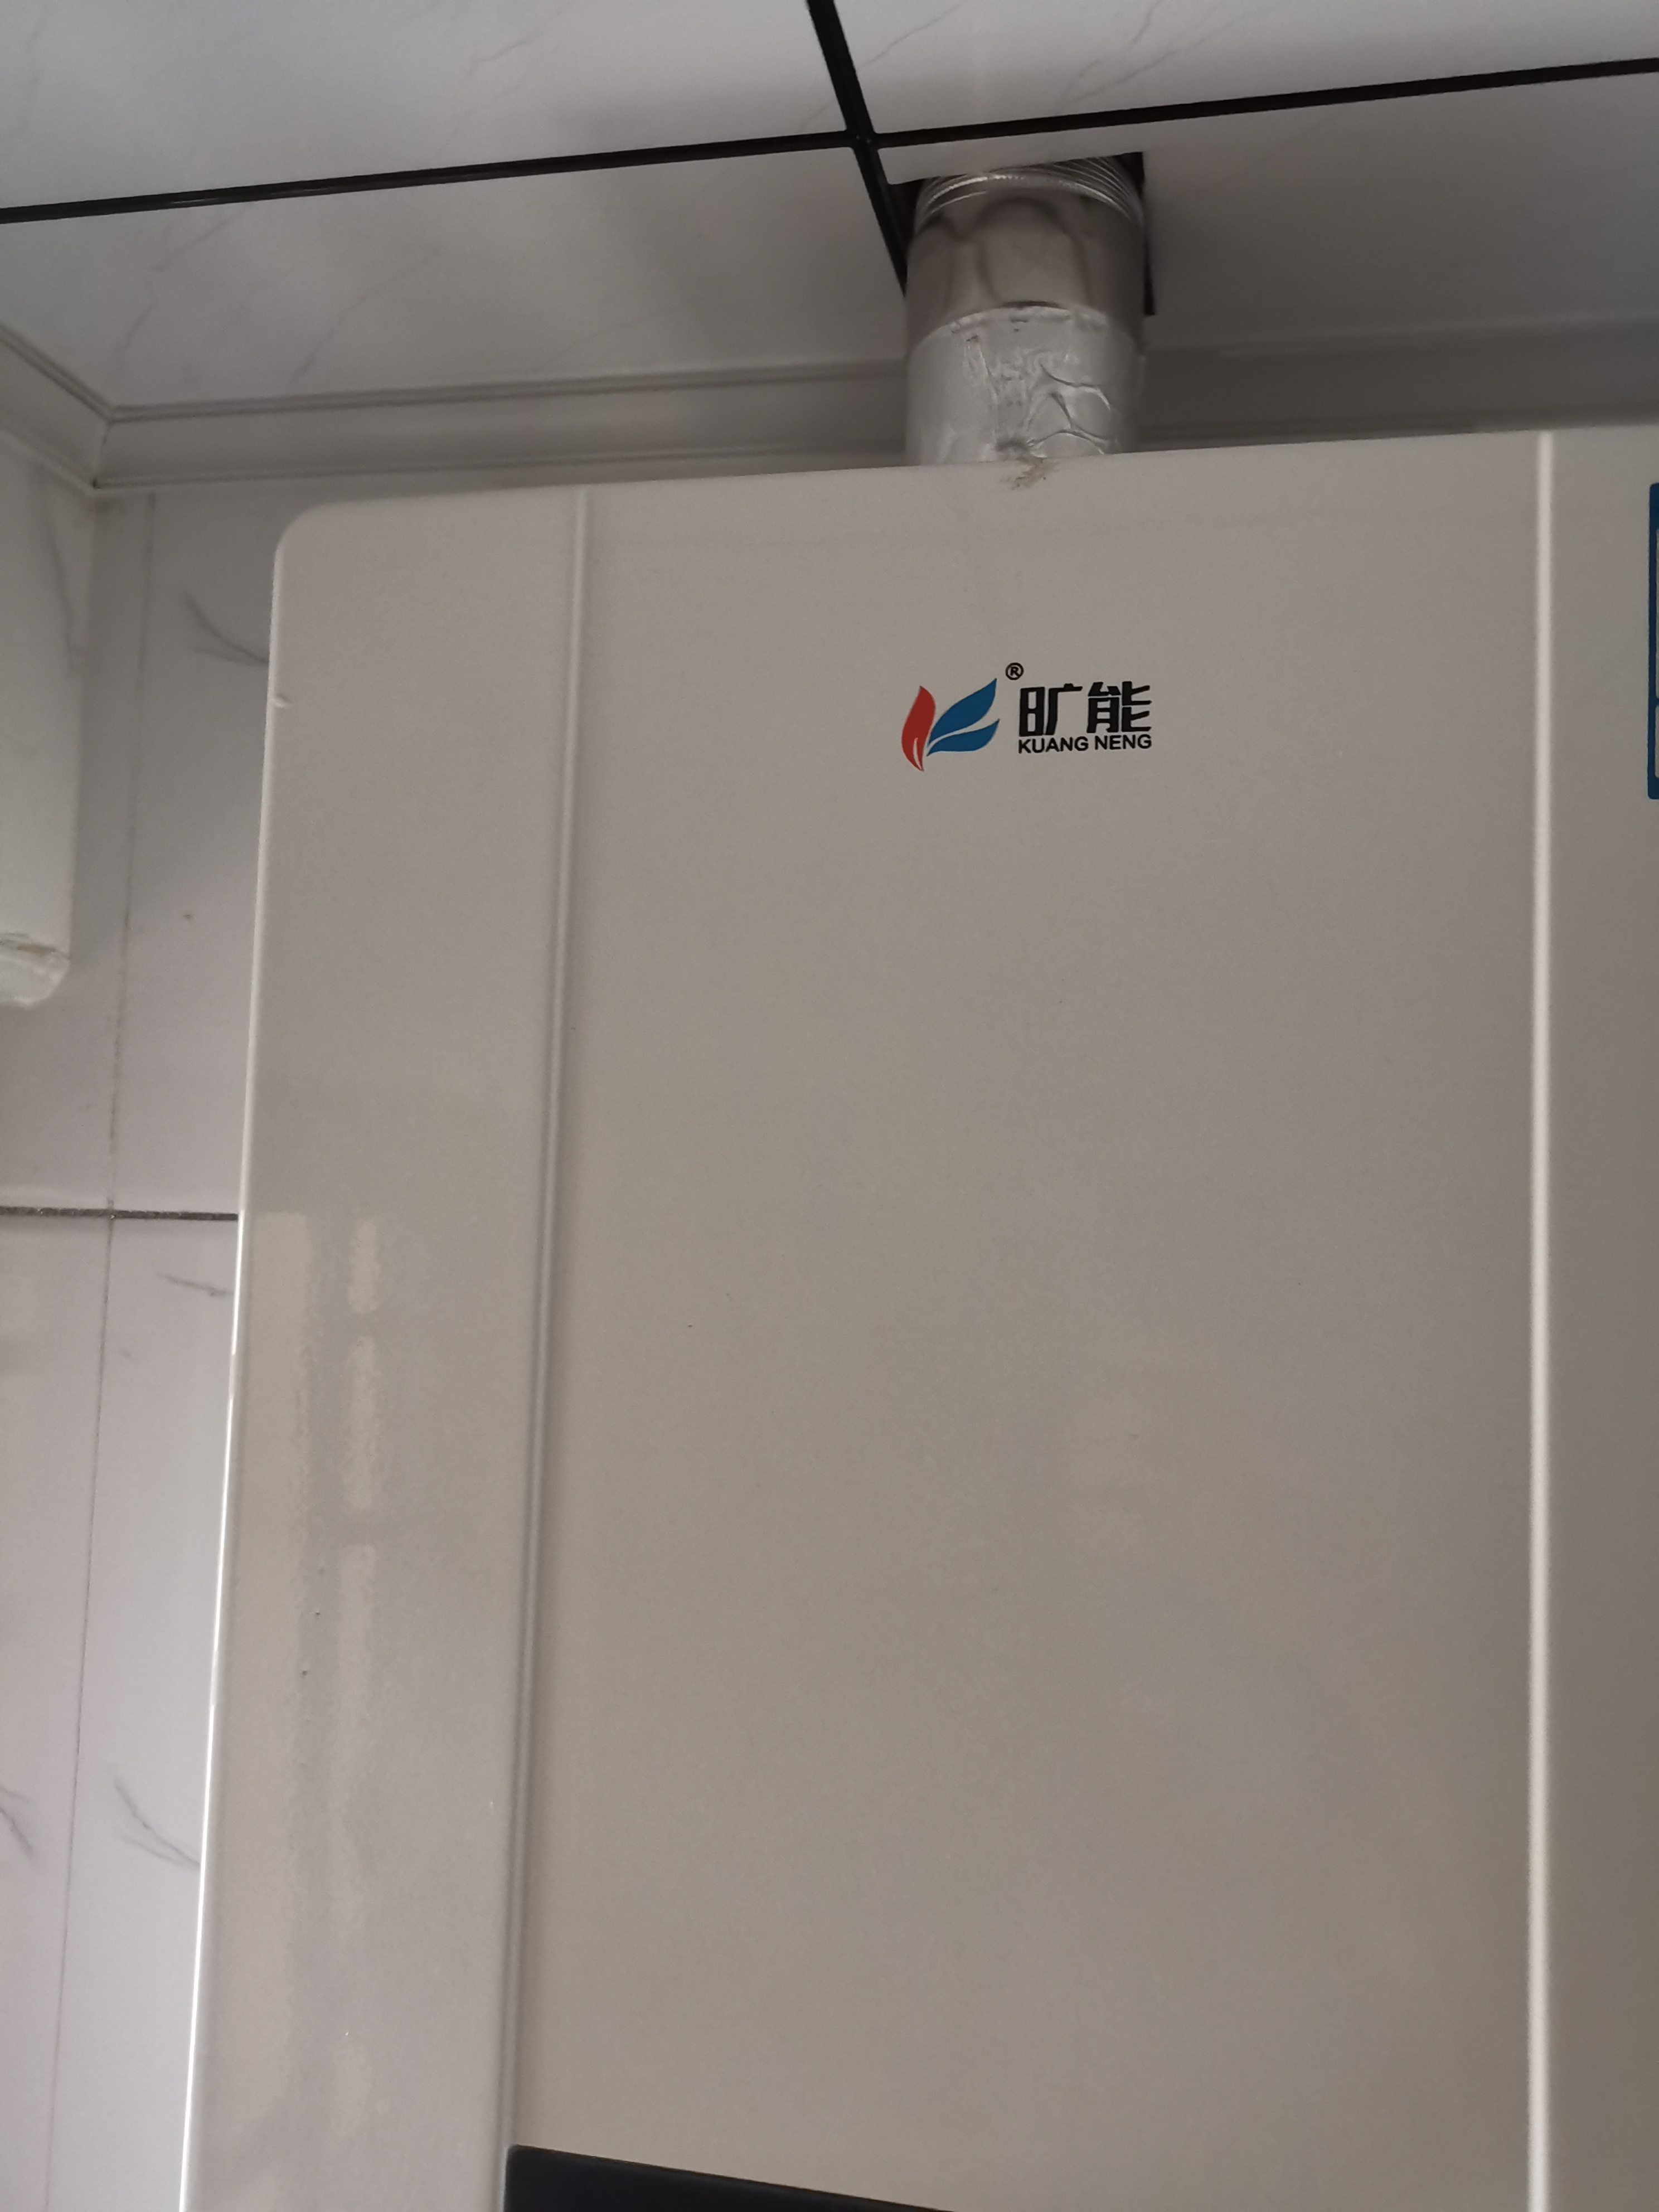loudou: (880, 648, 1185, 784)
